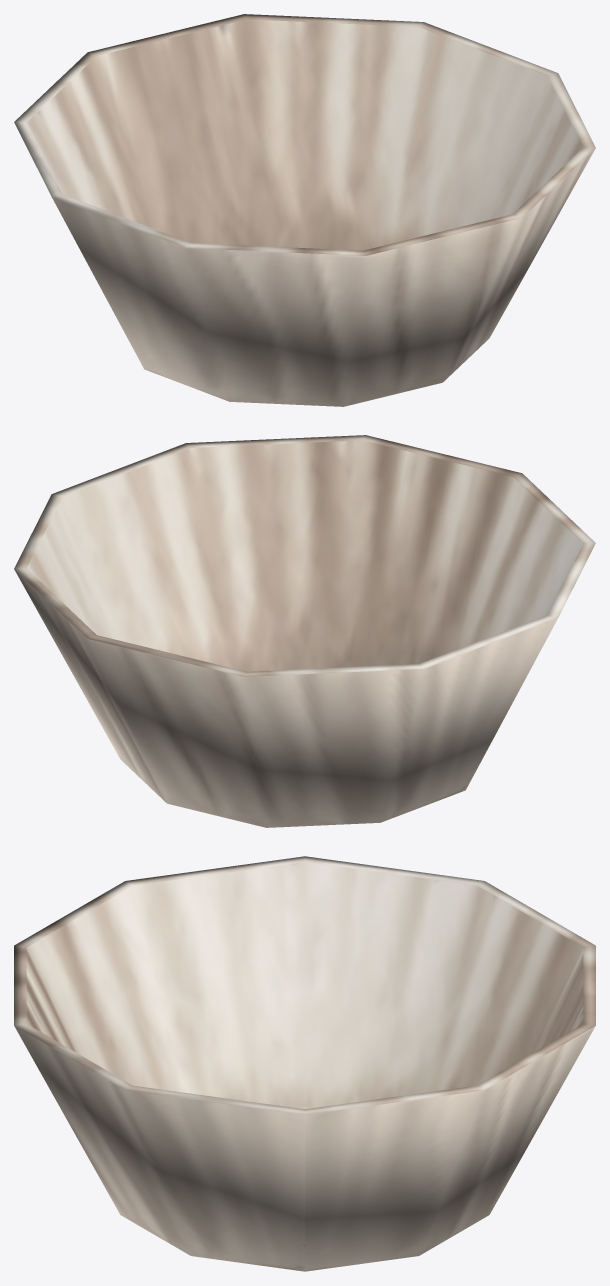
The model's file is coffee_filter_1.FBX.
The picture shows the model from 3 angles, top to bottom: view 1: azimuth 30°, elevation 25°; view 2: azimuth 150°, elevation 25°; view 3: azimuth 270°, elevation 25°; orthographic projection. The views are drawn at different scales.
Visible parts, largest first — view 1: coffee_filter_1; view 2: coffee_filter_1; view 3: coffee_filter_1.
Part boxes in pixels (x1,y1,x2,y2): coffee_filter_1: (14,14,595,406); coffee_filter_1: (14,435,595,827); coffee_filter_1: (14,856,595,1271).
Bounding box in the file's own units: 12.71 × 4.68 × 12.09.
